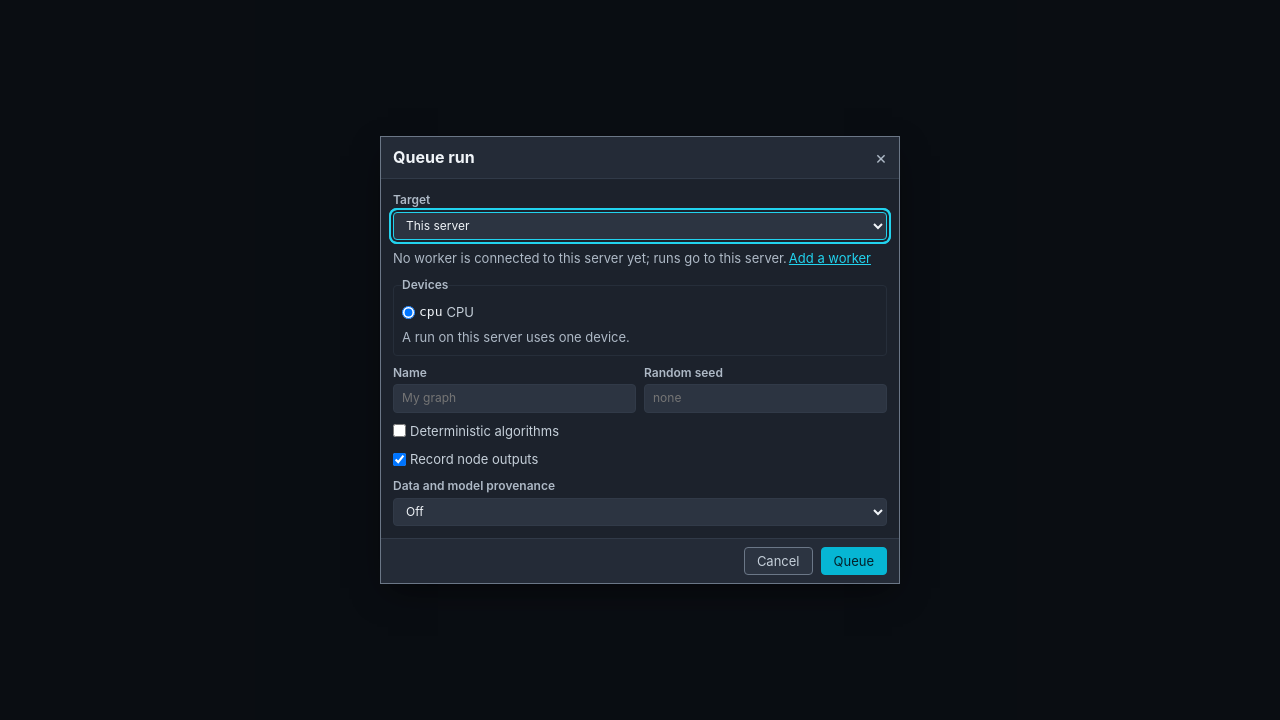
Scenario: QueueRunDialog: this server › treats a failed list refresh after the submit as non-blocking
Click the button "Queue".
click(854, 561)  # box x1=820 y1=547 x2=887 y2=575
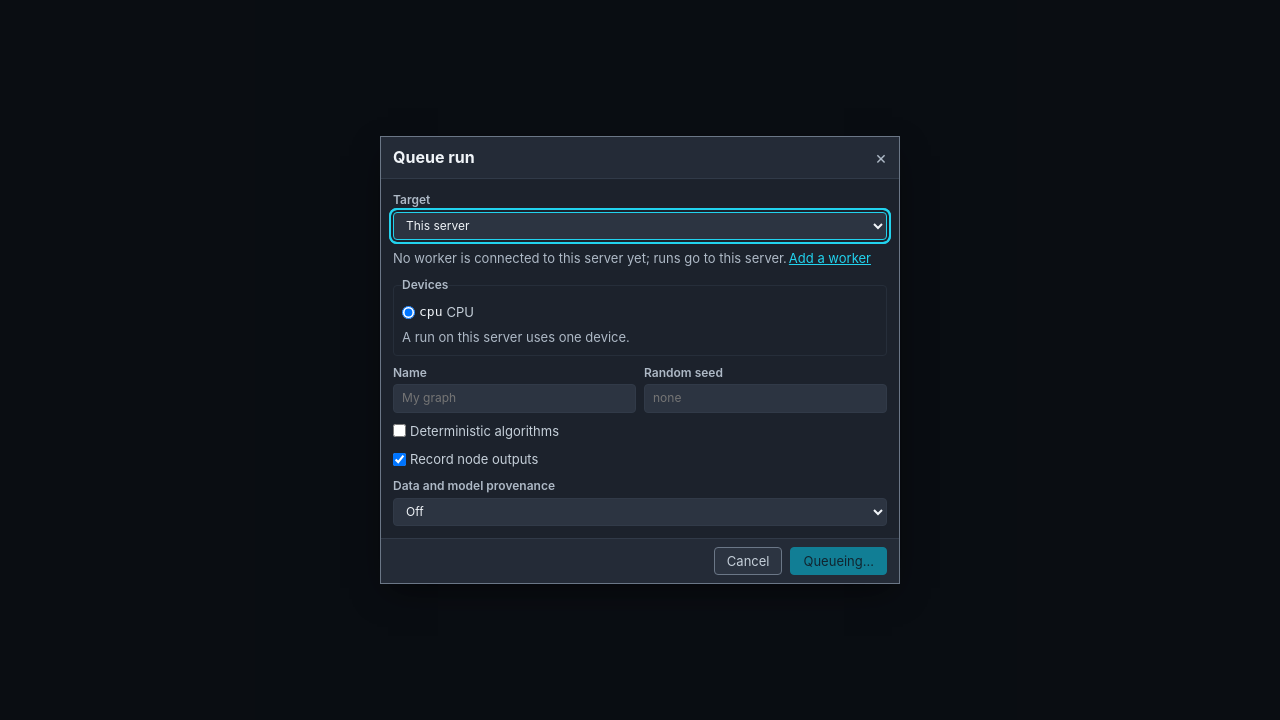
Result: the button "Queueing..." is disabled at x1=790 y1=547 x2=887 y2=575
